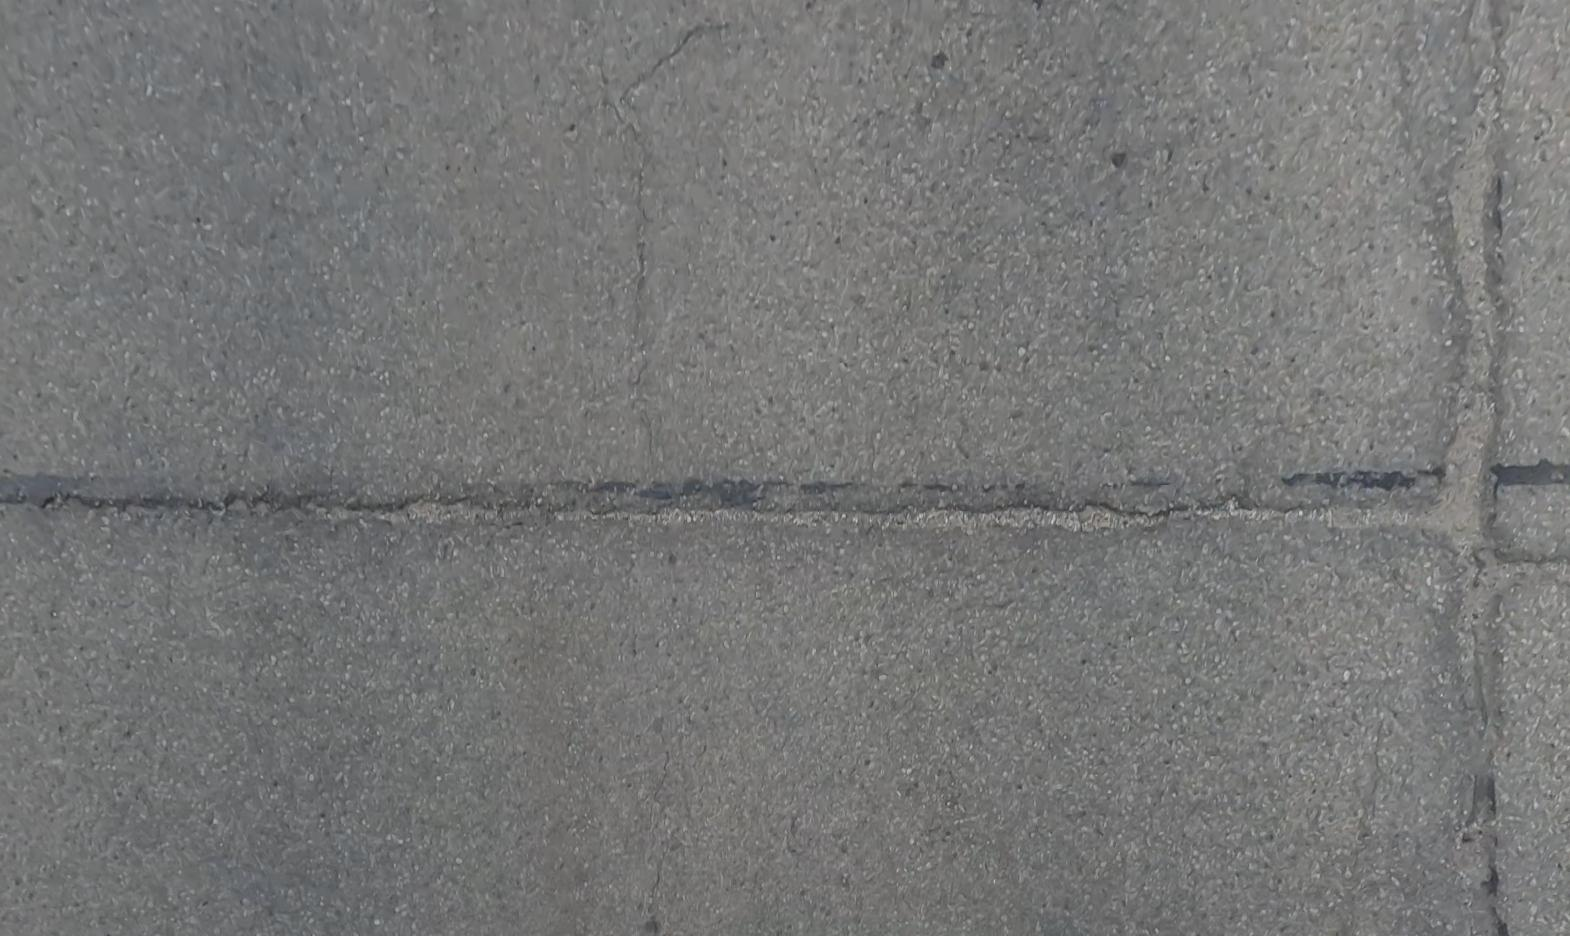pothole: (1425, 64, 1503, 550), (1471, 549, 1570, 649)
